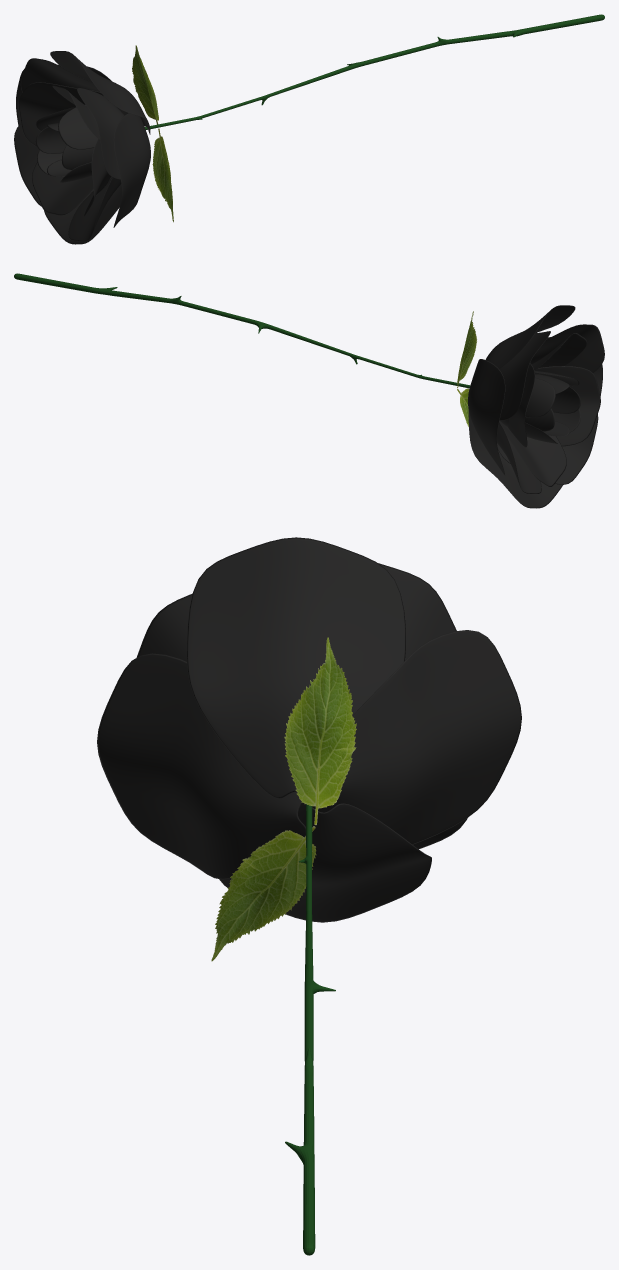
Rendered from Rose.fbx.
The picture shows the model from 3 angles, top to bottom: view 1: azimuth 30°, elevation 25°; view 2: azimuth 150°, elevation 25°; view 3: azimuth 270°, elevation 25°; orthographic projection. The views are drawn at different scales.
Parts seen in each view (by area): view 1: Plane.031, Vert, Circle.042, Circle.040; view 2: Plane.031, Vert, Circle.040; view 3: Plane.031, Circle.040, Circle.042, Vert.
Part boxes in pixels (bbox=[...]): Plane.031: bbox=[14, 51, 150, 244]; Vert: bbox=[144, 14, 604, 129]; Circle.042: bbox=[152, 128, 173, 222]; Circle.040: bbox=[132, 45, 158, 124]; Plane.031: bbox=[468, 305, 604, 508]; Vert: bbox=[14, 273, 470, 388]; Circle.040: bbox=[457, 311, 476, 388]; Plane.031: bbox=[97, 537, 521, 922]; Circle.040: bbox=[284, 637, 356, 824]; Circle.042: bbox=[211, 826, 316, 961]; Vert: bbox=[285, 804, 335, 1255].
Size of the model in its own units: 17.78 by 5.9 by 5.9.
